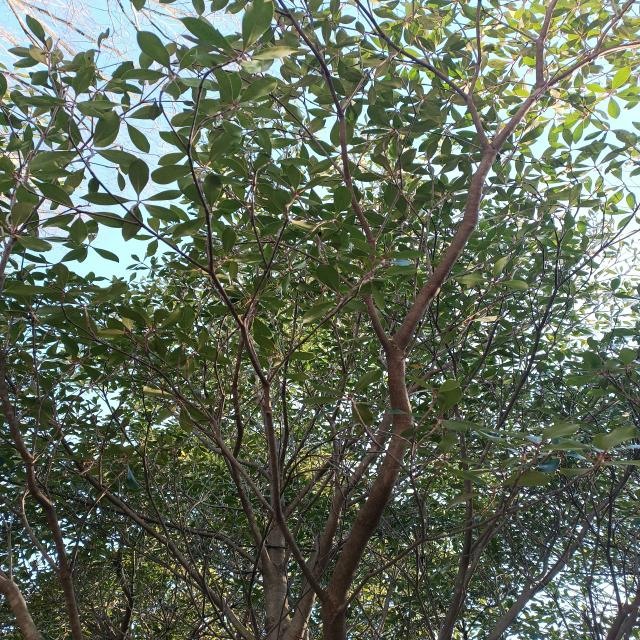Branch: (61, 433, 258, 640), (319, 338, 417, 640), (47, 502, 83, 640), (0, 574, 46, 640)
Twig: (29, 133, 331, 608), (396, 81, 546, 354), (70, 322, 277, 514), (281, 0, 390, 350), (9, 480, 260, 569), (356, 0, 489, 151), (230, 317, 271, 568), (0, 355, 51, 511), (548, 0, 640, 85), (69, 470, 123, 571), (0, 487, 60, 576), (536, 0, 558, 88), (484, 10, 535, 40), (468, 0, 482, 97), (0, 511, 13, 580)
